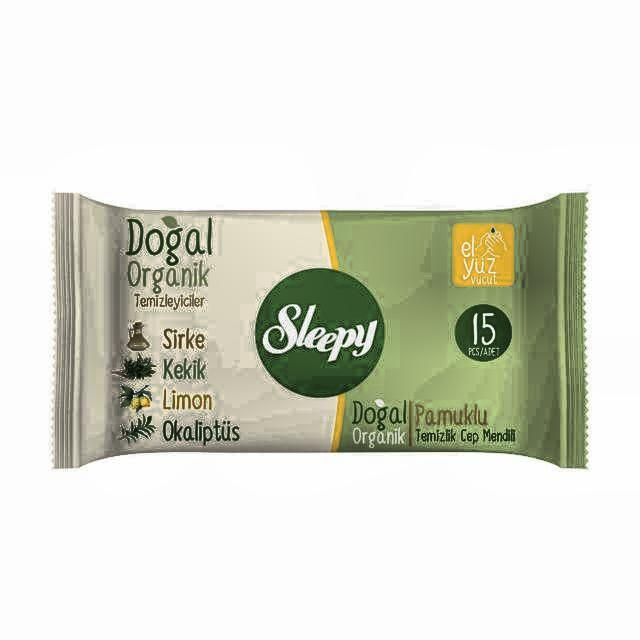plastic: (53, 193, 589, 469)
